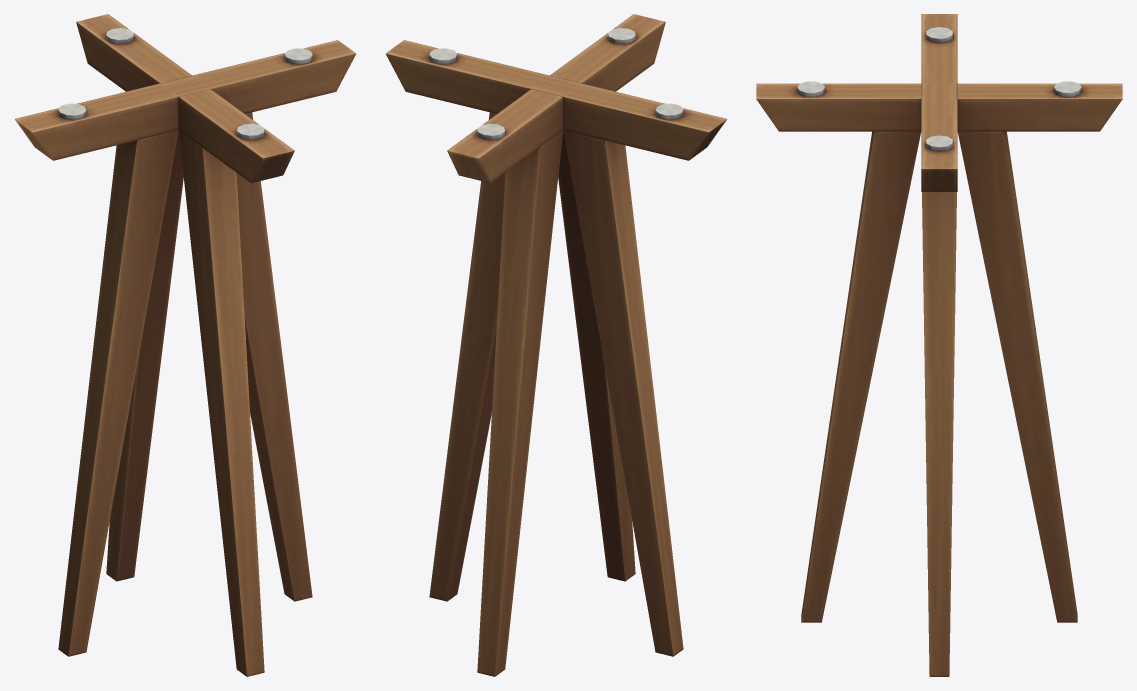
The model's file is OrbitalHighDining.fbx.
3 renders of one model, left to right at view 1: azimuth 30°, elevation 25°; view 2: azimuth 150°, elevation 25°; view 3: azimuth 270°, elevation 25°, orthographic.
Visible parts, largest first — view 1: TinyLiving_OrbitalHighDining; view 2: TinyLiving_OrbitalHighDining; view 3: TinyLiving_OrbitalHighDining.
Boxes of the visible parts, <box> form: TinyLiving_OrbitalHighDining: <box>15,14,356,676</box>; TinyLiving_OrbitalHighDining: <box>385,14,726,676</box>; TinyLiving_OrbitalHighDining: <box>756,14,1122,676</box>.
Bounding box in the file's own units: 60 × 95.99 × 60.
